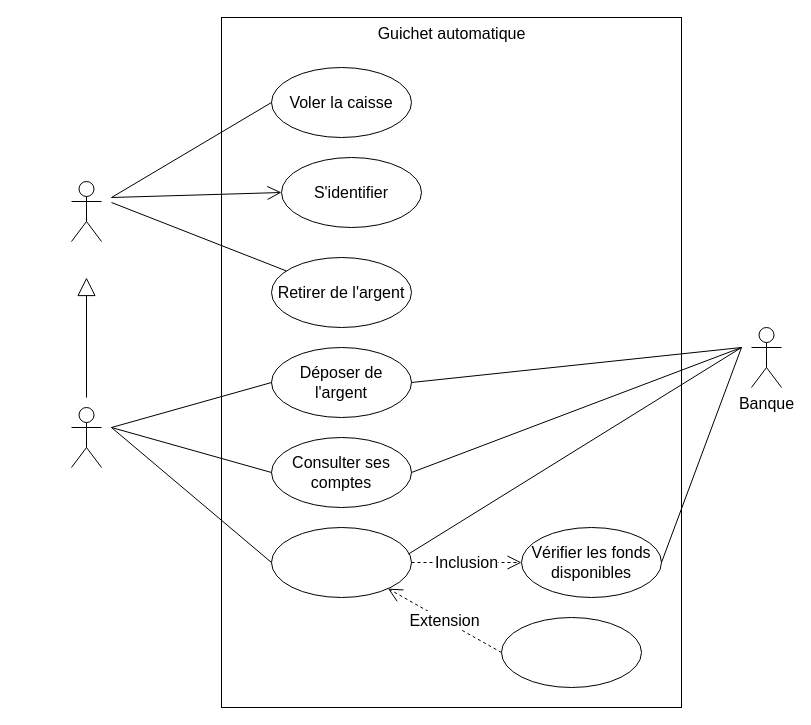
Image size: 811x725. Some labels were removed from this diagram. The shapes that lost their labels are listed below. From the top down, each one's centre as x and y in pixels, then its label:
pixel 86 211: Client
pixel 86 437: Client de la banque
pixel 341 562: Effectuer un virement
pixel 571 652: Enregistrer un bénéficiaire
